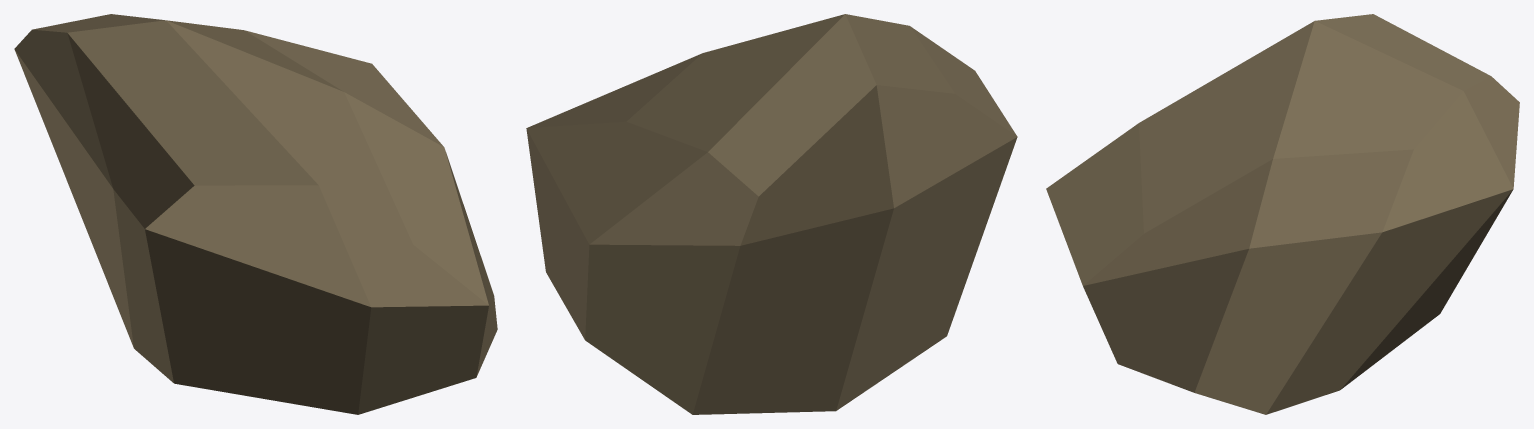
Rendered from rock_5.obj.
The picture shows the model from 3 angles, left to right: view 1: azimuth 30°, elevation 25°; view 2: azimuth 150°, elevation 25°; view 3: azimuth 270°, elevation 25°; orthographic projection. The views are drawn at different scales.
Visible parts, largest first — view 1: rock_5; view 2: rock_5; view 3: rock_5.
Part boxes in pixels (x1,y1,x2,y2): rock_5: (14, 14, 497, 414); rock_5: (526, 14, 1017, 414); rock_5: (1046, 14, 1519, 414).
Size of the model in its own units: 12.67 by 10.95 by 16.12.
